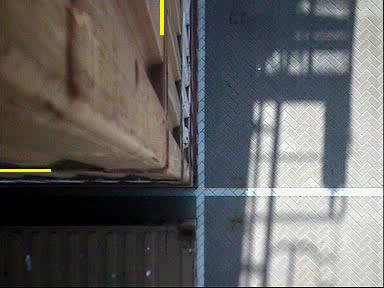groundmarker_2: (72, 149, 199, 231)
